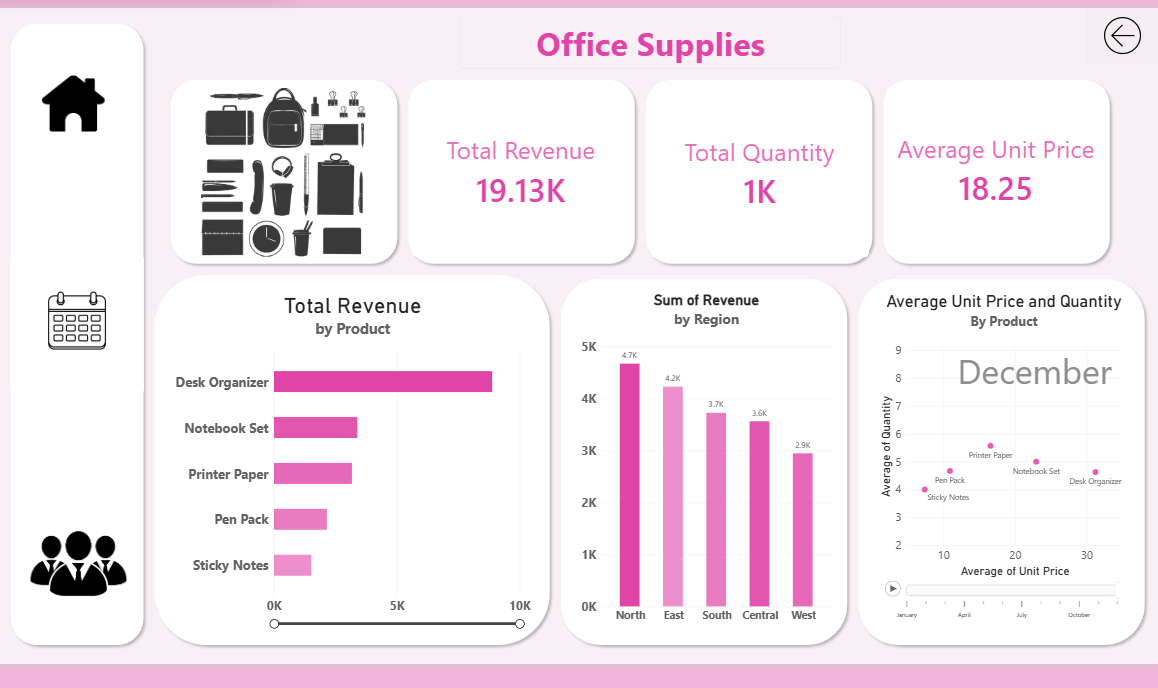

The dashboard page shown, as its layout file describes it:
{"tool":"powerbi","page":{"name":"Office Supplies","canvas":[1920,1080],"ordinal":6},"visuals":[{"type":"shape","box":[18.5,16.5,236.7,1041.5],"z":0},{"type":"shape","box":[282,109.1,391.1,321.1],"z":1000},{"type":"shape","box":[673.1,109.1,391.1,321.1],"z":2000},{"type":"shape","box":[1064.2,109.1,391.1,321.1],"z":3000},{"type":"shape","box":[1455.2,109.1,391.1,321.1],"z":4000},{"type":"shape","box":[255.2,430.2,669,627.8],"z":5000},{"type":"shape","box":[1414.1,436.4,489.9,621.6],"z":6000},{"type":"shape","box":[924.2,436.4,489.9,621.6],"z":7000},{"type":"cardVisual","fields":{"Data":["Sum(Table1.Revenue)"]},"box":[687.5,131.7,360.2,277.9],"z":8000},{"type":"cardVisual","fields":{"Data":["Sum(Table1.Quantity)"]},"box":[1080.6,133.8,360.2,277.9],"z":9000},{"type":"cardVisual","fields":{"Data":["Avg(Table1.Unit Price)"]},"box":[1469.6,129.7,360.2,277.9],"z":10000},{"type":"barChart","title":"Total Revenue","fields":{"Category":["Table1.Product"],"Y":["Sum(Table1.Revenue)"]},"box":[281.4,453.9,617.5,580.4],"z":11000},{"type":"columnChart","fields":{"Category":["Table1.Region"],"Y":["Sum(Table1.Revenue)"]},"box":[950.9,452.8,444.6,580.4],"z":12000},{"type":"scatterChart","title":"Average  Unit Price and Quantity","fields":{"Category":["Table1.Product"],"Play":["Table1.Date.Variation.Date Hierarchy.Month"],"X":["Avg(Table1.Unit Price)"],"Y":["Avg(Table1.Quantity)"]},"box":[1440.8,452.8,444.6,580.4],"z":13000},{"type":"cardVisual","fields":{"Data":["Min(Table1.Product Category)"]},"box":[765.7,12.3,629.8,88.5],"z":14000},{"type":"image","box":[302.6,131.7,347.9,277.9],"z":15000},{"type":"actionButton","box":[1796.5,0,123.5,90.6],"z":16000},{"type":"image","box":[37,45.3,187.3,224.4],"z":17000},{"type":"image","box":[37,817.2,203.8,195.5],"z":18000},{"type":"image","box":[26.8,393.1,220.2,255.2],"z":19000}]}

Visuals, with their boxes on the page's 1920x1080 design canvas (x1, y1, x2, y2). These are canvas units, not pixel positions in the 1158x688 screenshot, which may show the page scaled, cropped or inside an application window:
shape: <region>18, 16, 255, 1058</region>
shape: <region>282, 109, 673, 430</region>
shape: <region>673, 109, 1064, 430</region>
shape: <region>1064, 109, 1455, 430</region>
shape: <region>1455, 109, 1846, 430</region>
shape: <region>255, 430, 924, 1058</region>
shape: <region>1414, 436, 1904, 1058</region>
shape: <region>924, 436, 1414, 1058</region>
cardVisual - Sum(Table1.Revenue): <region>688, 132, 1048, 410</region>
cardVisual - Sum(Table1.Quantity): <region>1081, 134, 1441, 412</region>
cardVisual - Avg(Table1.Unit Price): <region>1470, 130, 1830, 408</region>
"Total Revenue" barChart: <region>281, 454, 899, 1034</region>
columnChart - Table1.Region x Sum(Table1.Revenue): <region>951, 453, 1396, 1033</region>
"Average  Unit Price and Quantity" scatterChart: <region>1441, 453, 1885, 1033</region>
cardVisual - Min(Table1.Product Category): <region>766, 12, 1396, 101</region>
image: <region>303, 132, 650, 410</region>
actionButton: <region>1796, 0, 1920, 91</region>
image: <region>37, 45, 224, 270</region>
image: <region>37, 817, 241, 1013</region>
image: <region>27, 393, 247, 648</region>
